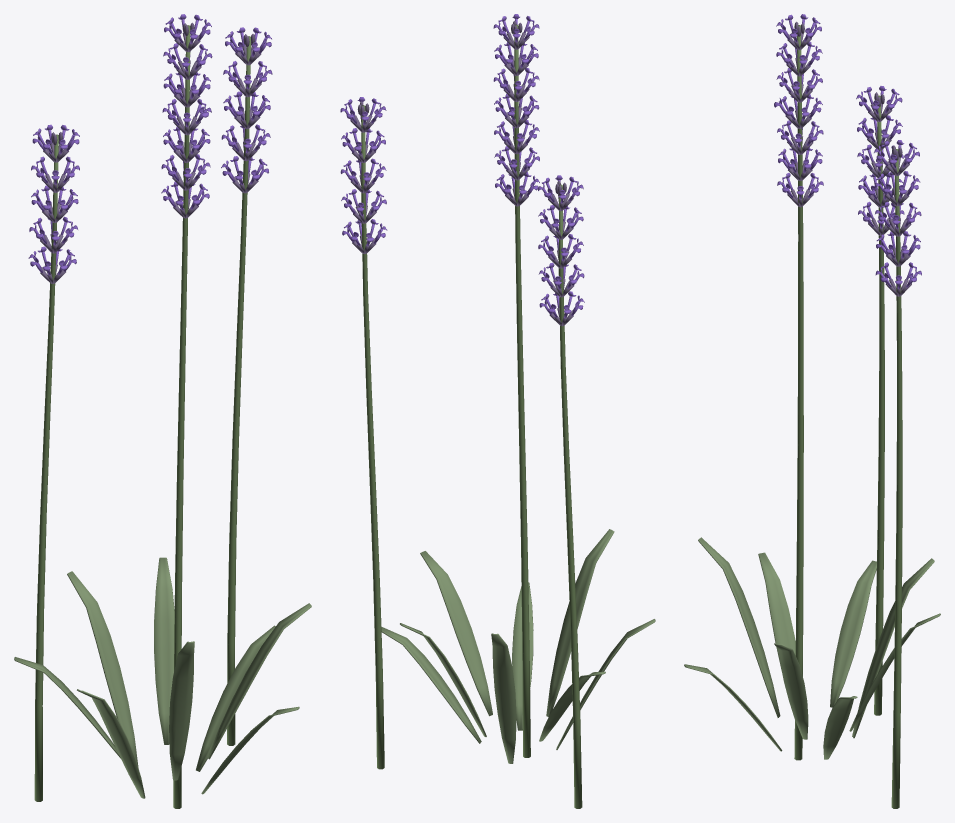
The model's file is flower-lavandula.glb.
3 views of the same model, side by side, from view 1: azimuth 30°, elevation 25°; view 2: azimuth 150°, elevation 25°; view 3: azimuth 270°, elevation 25° (orthographic). The views are drawn at different scales.
Parts seen in each view (by area): view 1: leaves, stems, spike_florets_bg, spike_florets; view 2: stems, leaves, spike_florets_bg, spike_florets; view 3: stems, leaves, spike_florets_bg, spike_florets.
Boxes of the visible parts, <box> form: leaves: <box>14,557,311,798</box>; stems: <box>34,25,250,808</box>; spike_florets_bg: <box>28,27,272,283</box>; spike_florets: <box>161,14,212,218</box>; stems: <box>361,24,582,808</box>; leaves: <box>381,529,655,763</box>; spike_florets_bg: <box>340,97,584,326</box>; spike_florets: <box>493,14,539,206</box>; stems: <box>794,25,902,808</box>; leaves: <box>684,537,940,759</box>; spike_florets_bg: <box>856,86,921,296</box>; spike_florets: <box>776,14,823,207</box>.
Size of the model in its own units: 6.63 by 18.55 by 5.82.
